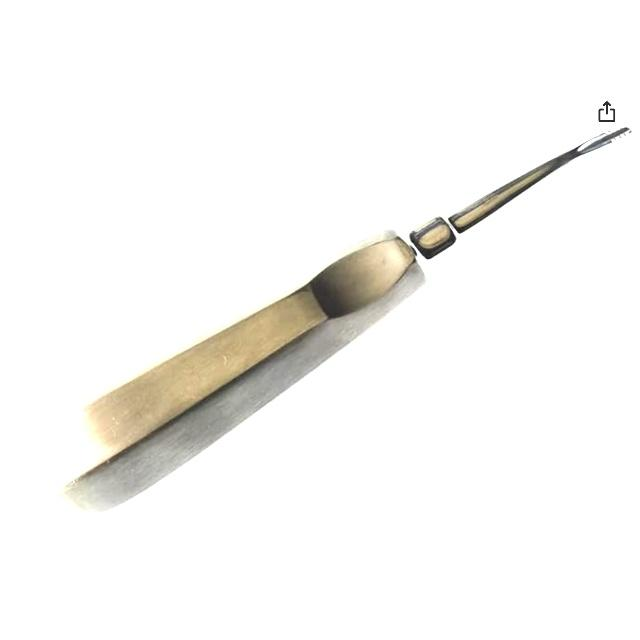botador: (53, 126, 632, 518)
